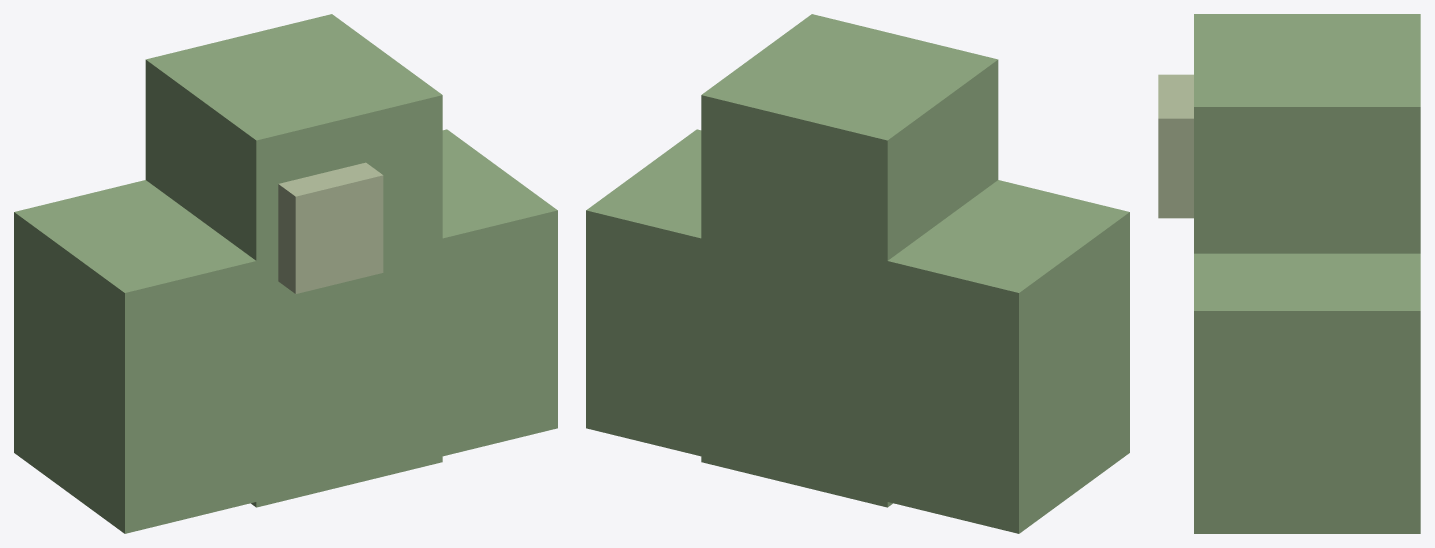
File: dye_green.glb
3 views of the same model, side by side, from view 1: azimuth 30°, elevation 25°; view 2: azimuth 150°, elevation 25°; view 3: azimuth 270°, elevation 25° (orthographic). The views are drawn at different scales.
Parts seen in each view (by area): view 1: dye_green; view 2: dye_green; view 3: dye_green.
Part boxes in pixels (x1=…): dye_green: x1=14, y1=14, x2=557, y2=533; dye_green: x1=586, y1=14, x2=1129, y2=533; dye_green: x1=1158, y1=14, x2=1420, y2=533.
Size of the model in its own units: 0.79 by 0.64 by 0.405.
